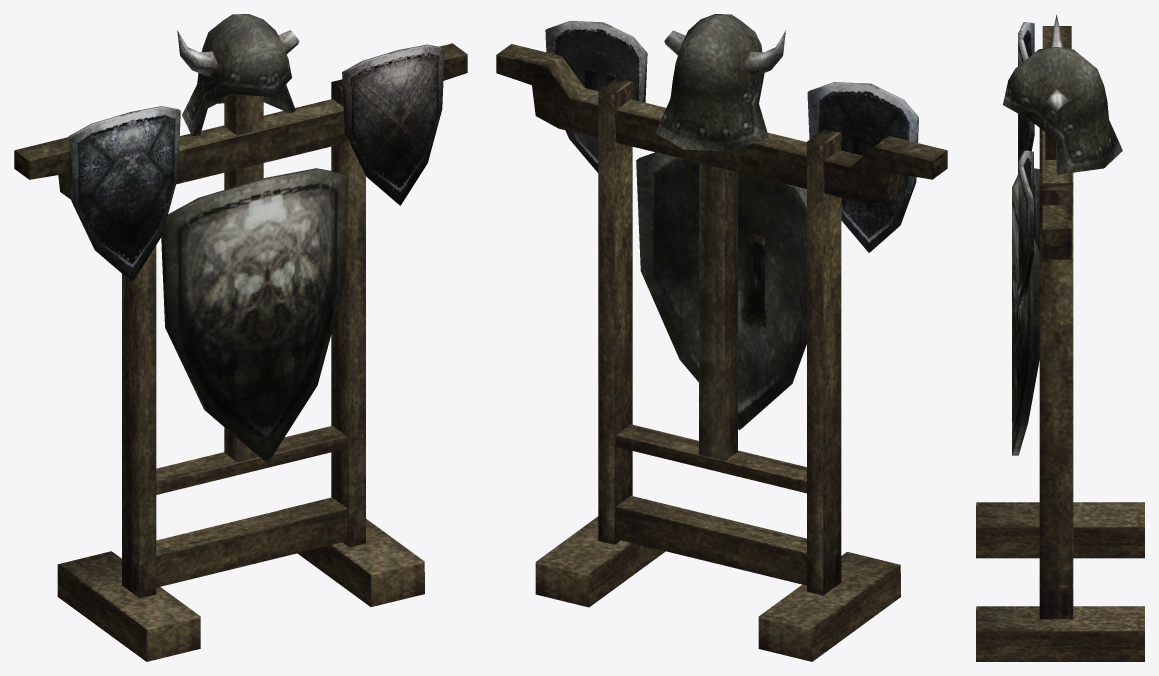
File: ep_b_general_obj_36.fbx
3 views of the same model, side by side, from view 1: azimuth 30°, elevation 25°; view 2: azimuth 150°, elevation 25°; view 3: azimuth 270°, elevation 25° (orthographic). The views are drawn at different scales.
Parts seen in each view (by area): view 1: ep_B_general_obj_36; view 2: ep_B_general_obj_36; view 3: ep_B_general_obj_36.
Part boxes in pixels (x1,y1,x2,y2): ep_B_general_obj_36: (14,14,467,661); ep_B_general_obj_36: (496,14,947,661); ep_B_general_obj_36: (976,15,1144,661).
Size of the model in its own units: 1.94 by 2.46 by 0.6819.
